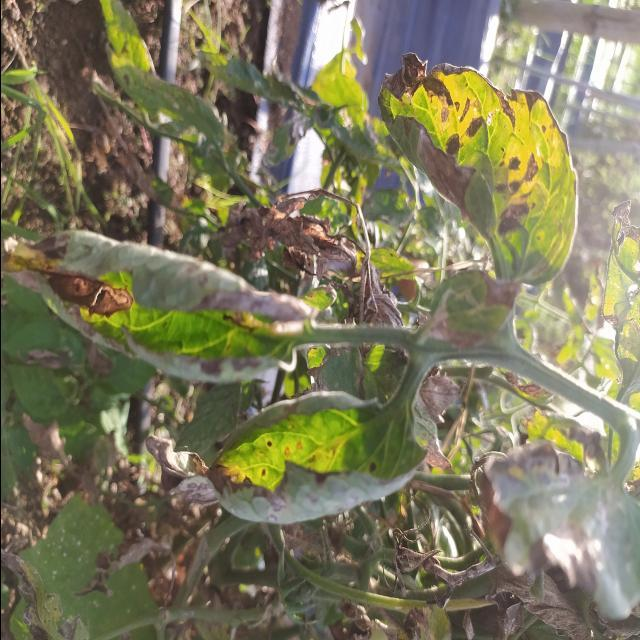Tomato mosaic virus leaf: (374, 44, 578, 245)
